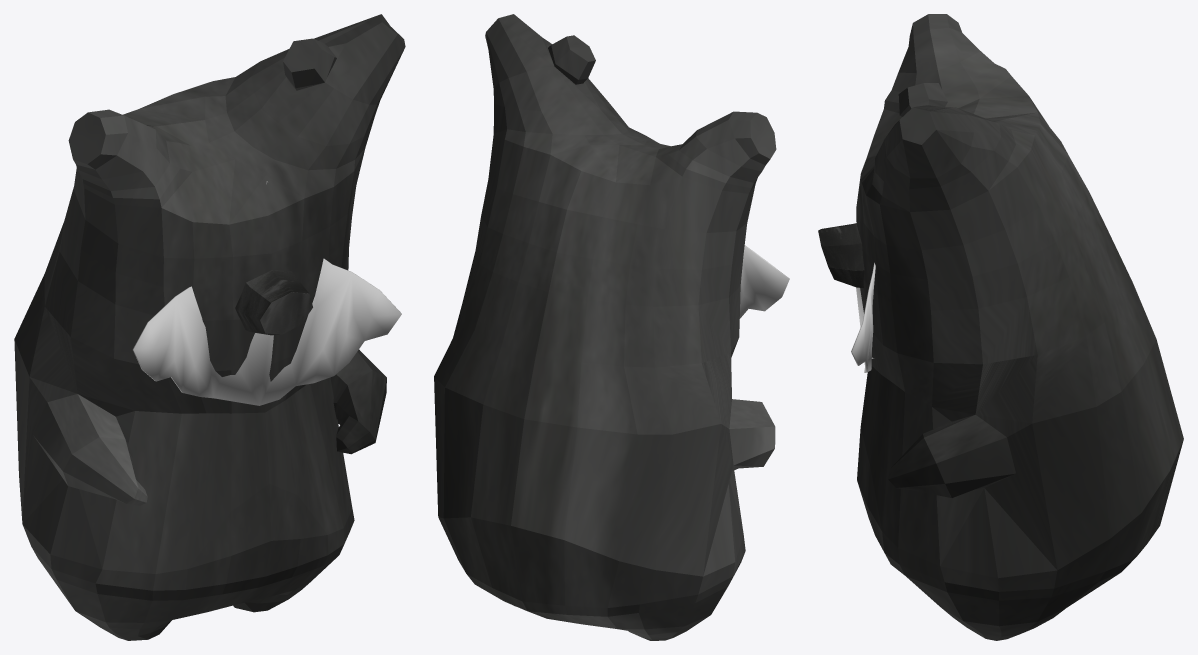
Rendered from frame_0006.obj.
The picture shows the model from 3 angles, left to right: view 1: azimuth 30°, elevation 25°; view 2: azimuth 150°, elevation 25°; view 3: azimuth 270°, elevation 25°; orthographic projection. The views are drawn at different scales.
Parts seen in each view (by area): view 1: korok, leaf, nose; view 2: korok, leaf; view 3: korok, nose, leaf.
Boxes of the visible parts, x1,y1,x2,y2 form: korok: (14,14,405,640); leaf: (132,181,401,405); nose: (235,270,312,335); korok: (434,14,776,640); leaf: (649,137,789,318); korok: (856,14,1183,640); nose: (818,223,864,288); leaf: (851,262,875,372).
Bounding box in the file's own units: 1.27 × 2.21 × 1.3.
